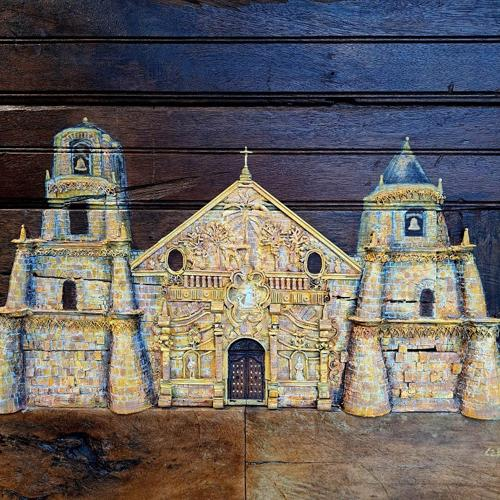Miagao Church: (10, 115, 500, 424)
